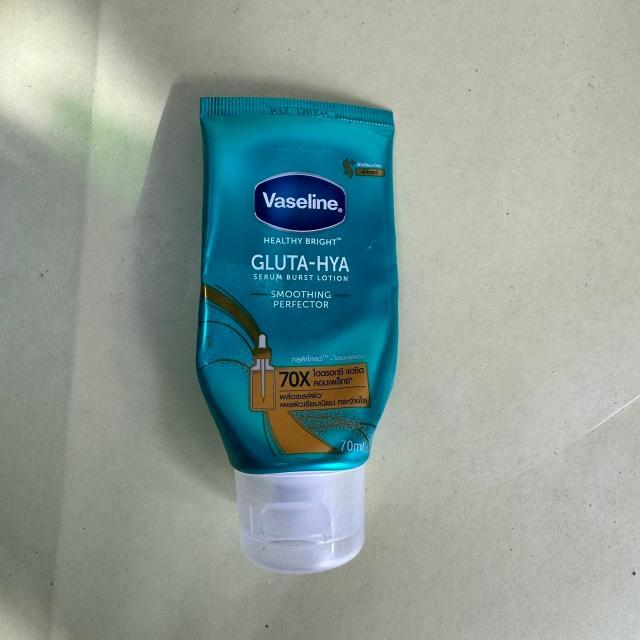Squeeze Tube: (192, 76, 428, 591)
